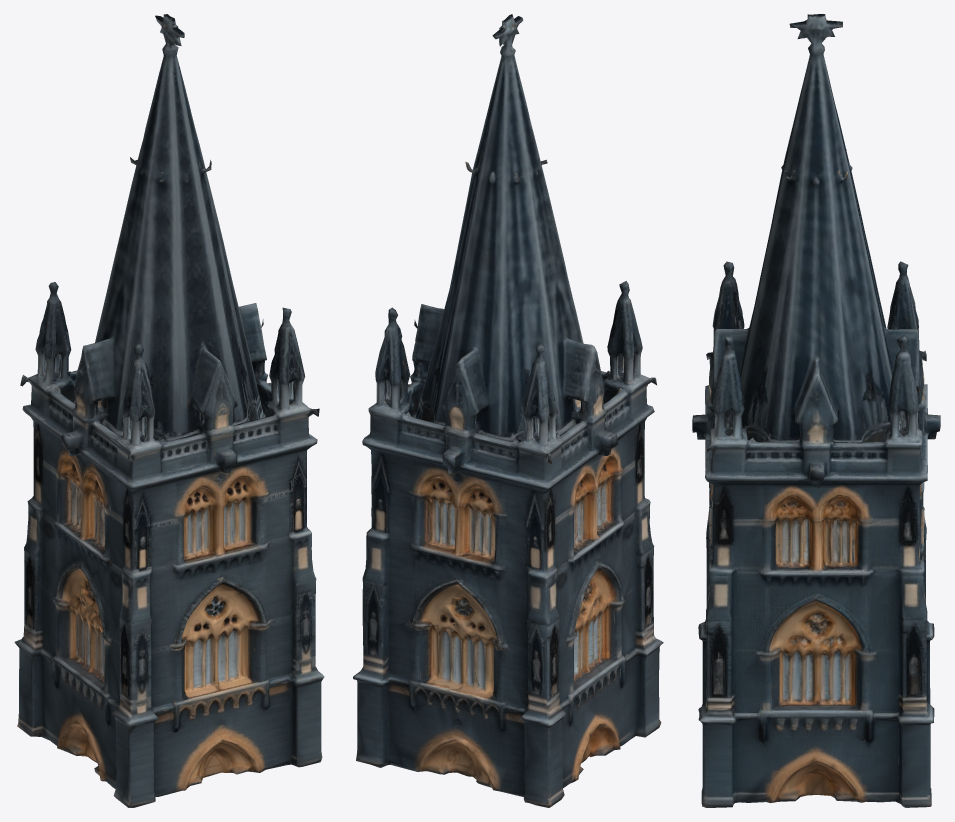
Rendered from gothic_tower-web.glb.
3 views of the same model, side by side, from view 1: azimuth 30°, elevation 25°; view 2: azimuth 150°, elevation 25°; view 3: azimuth 270°, elevation 25° (orthographic). The views are drawn at different scales.
Bounding box in the file's own units: 0.6075 × 2.01 × 0.6062.
1 material, 1 textured.
